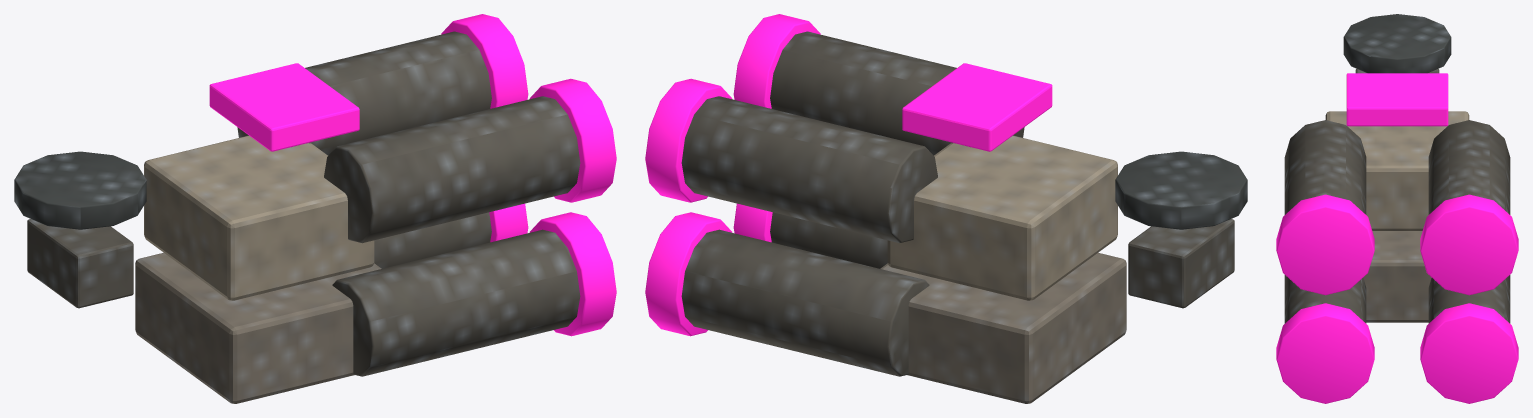
Rendered from rocketturret_head.glb.
3 views of the same model, side by side, from view 1: azimuth 30°, elevation 25°; view 2: azimuth 150°, elevation 25°; view 3: azimuth 270°, elevation 25° (orthographic). The views are drawn at different scales.
Visible parts, largest first — view 1: Sandwar3D; view 2: Sandwar3D; view 3: Sandwar3D.
Part boxes in pixels (x1=…): Sandwar3D: x1=14, y1=14, x2=616, y2=403; Sandwar3D: x1=645, y1=14, x2=1247, y2=403; Sandwar3D: x1=1276, y1=14, x2=1518, y2=403.
Bounding box in the file's own units: 0.815 × 0.3895 × 0.404.
5 materials, 4 textured.
